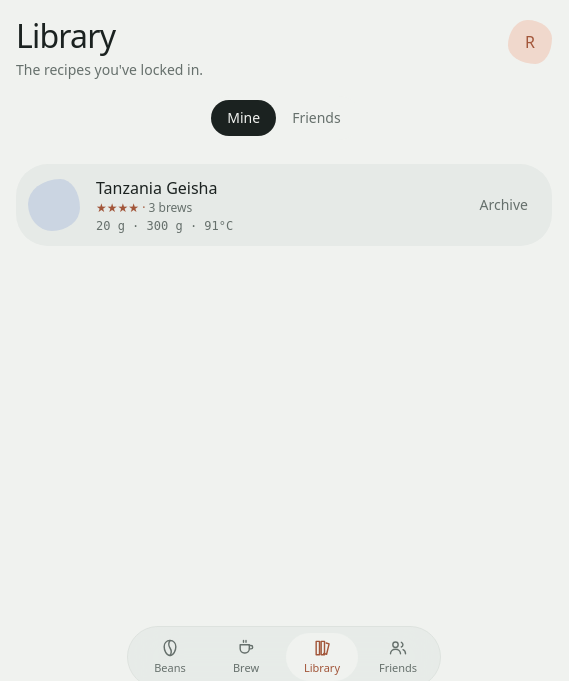
Library › starts a brew from a recipe with its settings filled in
Click the link with aria-label "Brew Tanzania Geisha again" at (131, 205), box [28, 177, 233, 233]
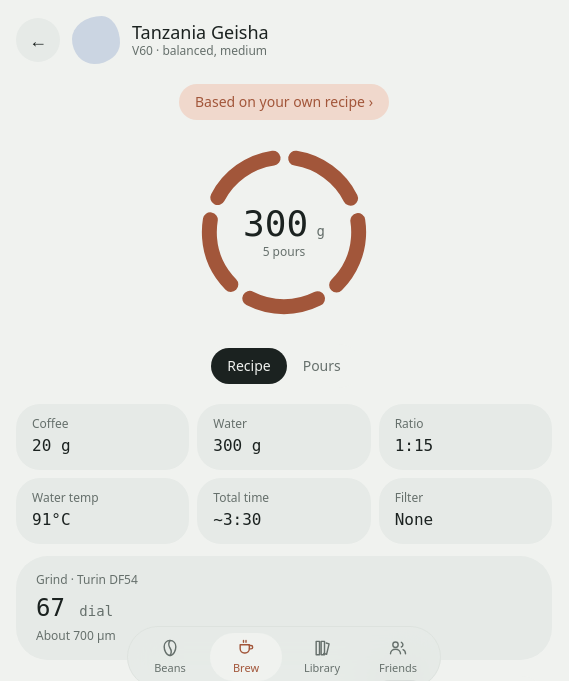
Expected: the heading "Tanzania Geisha" is shown, [132, 21, 269, 43]
Result: the element named "Recipe" is shown at [16, 404, 552, 544]
